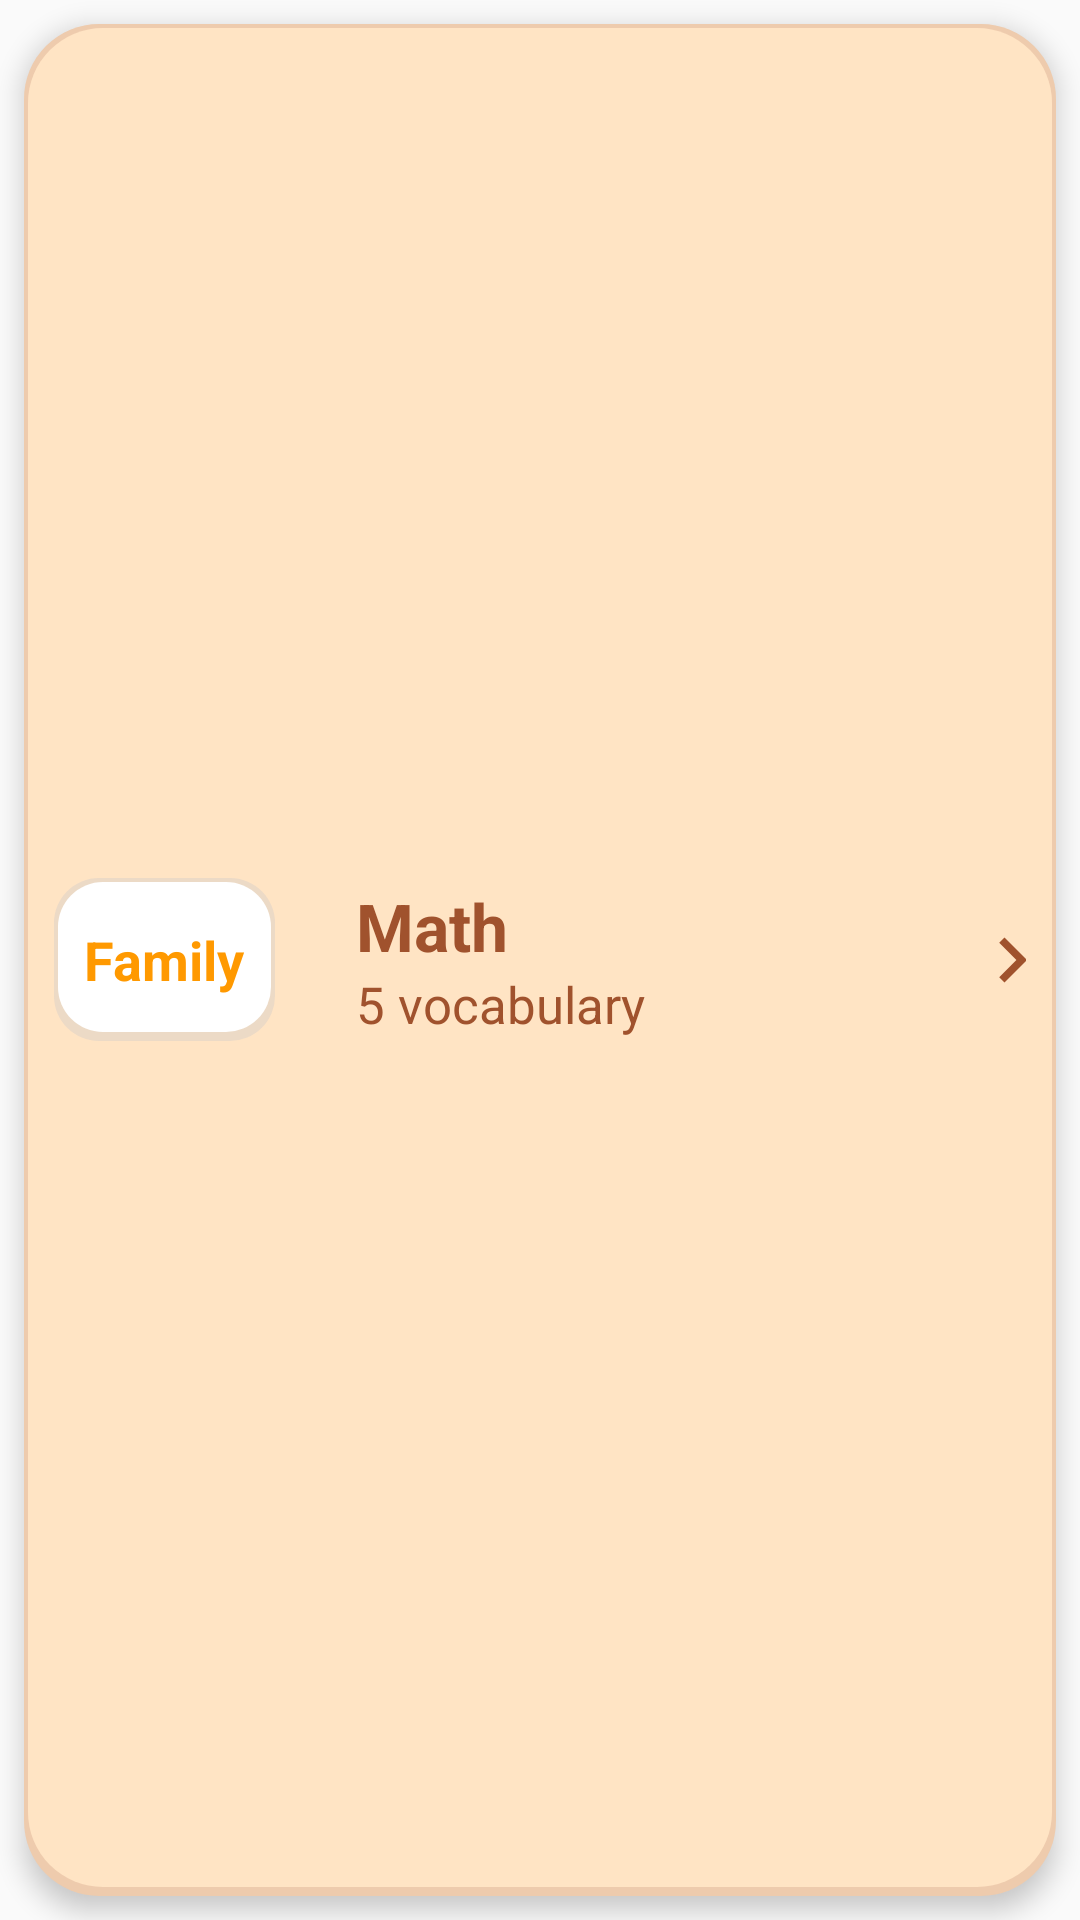

Where to tap for icons on this 1080 × 1920 app screen, as point (x, y):
right arrow: point (1012, 960)
